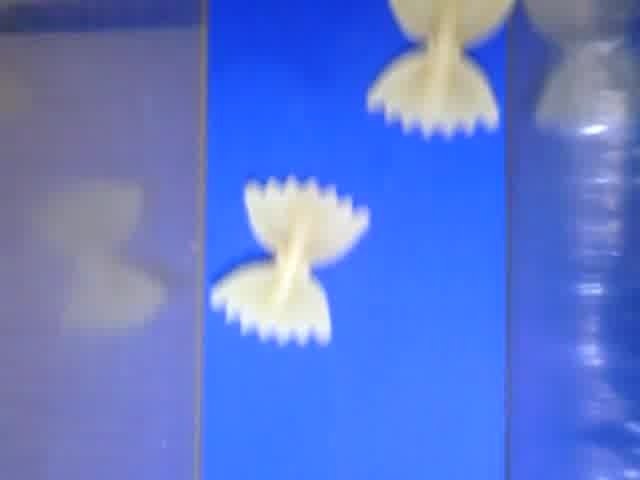farfalle: (211, 175, 372, 346), (365, 1, 517, 137)
